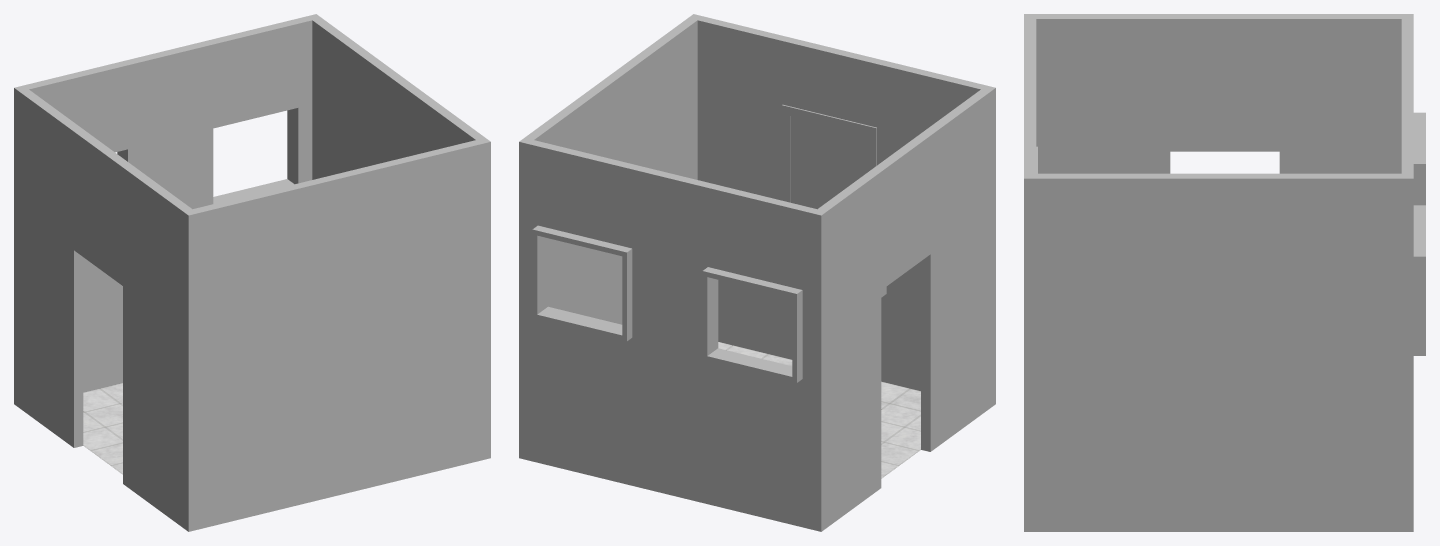
File: bathroom_config_6.dae
The picture shows the model from 3 angles, left to right: view 1: azimuth 30°, elevation 25°; view 2: azimuth 150°, elevation 25°; view 3: azimuth 270°, elevation 25°; orthographic projection. The views are drawn at different scales.
Visible parts, largest first — view 1: configuration_6; view 2: configuration_6; view 3: configuration_6.
Boxes of the visible parts, x1,y1,x2,y2 form: configuration_6: (14, 14, 490, 531); configuration_6: (519, 14, 995, 531); configuration_6: (1024, 14, 1425, 531).
Size of the model in its own units: 3.2 by 3.3 by 3.2.
